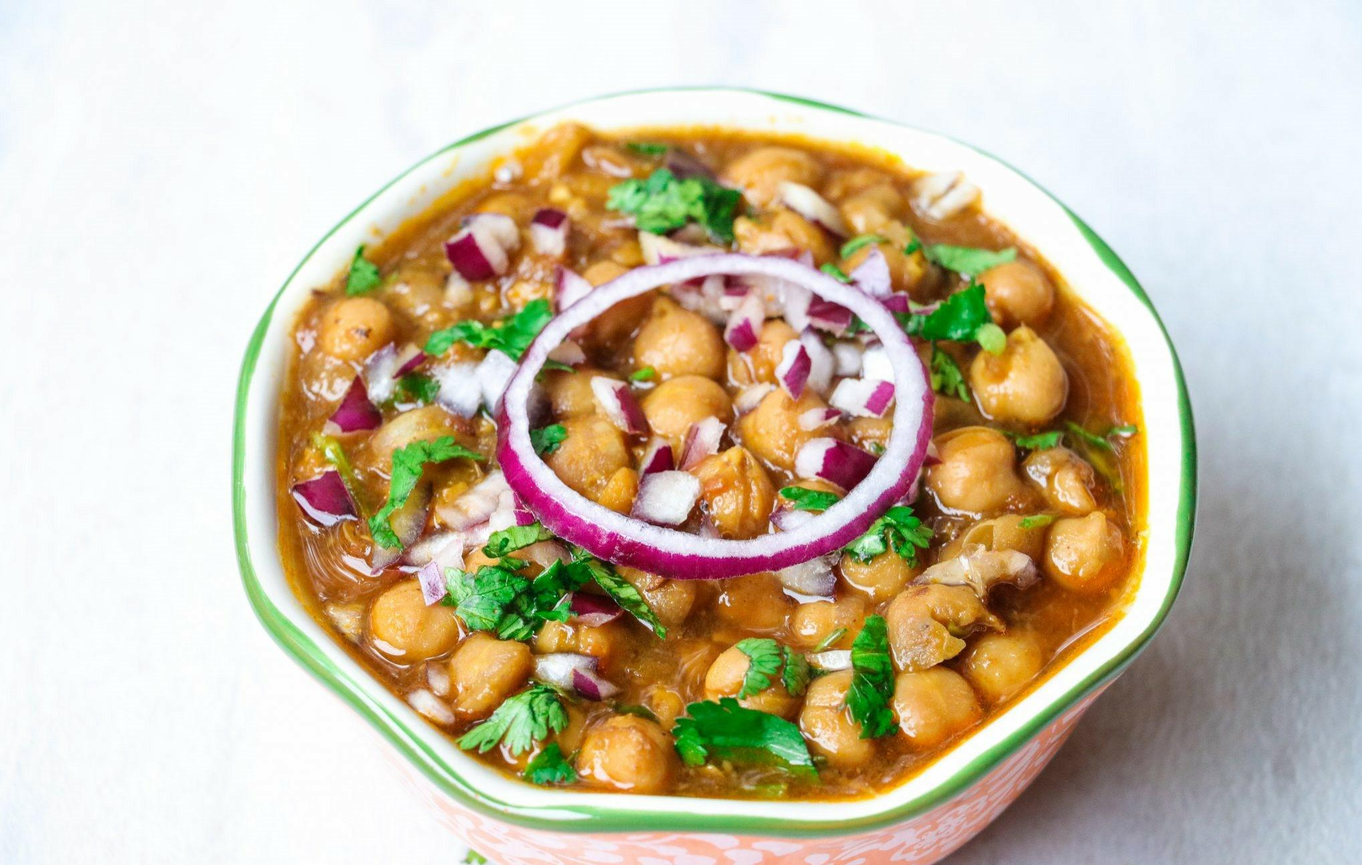Chole: (278, 124, 1148, 800)
